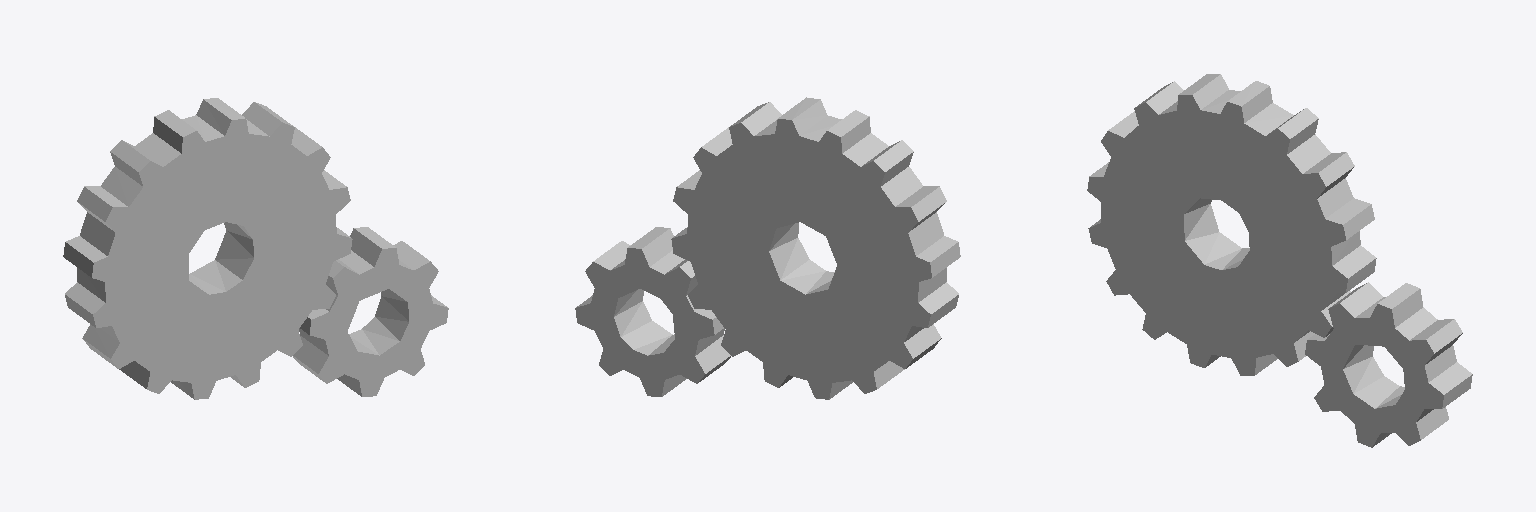
File: gears.obj
The picture shows the model from 3 angles: view 1: azimuth 30°, elevation 25°; view 2: azimuth 150°, elevation 25°; view 3: azimuth 330°, elevation 25°; orthographic projection.
Parts seen in each view (by area): view 1: obj_0; view 2: obj_0; view 3: obj_0.
Boxes of the visible parts, x1=… form: obj_0: x1=63, y1=98, x2=448, y2=399; obj_0: x1=575, y1=97, x2=960, y2=399; obj_0: x1=1087, y1=74, x2=1472, y2=447.
Size of the model in its own units: 2.97 by 2.47 by 0.4117.